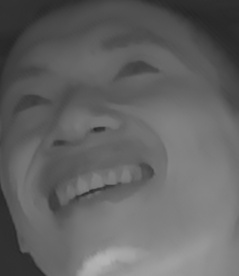eye: (109, 54, 160, 88), (9, 86, 52, 114)
mouth: (43, 155, 156, 219)
